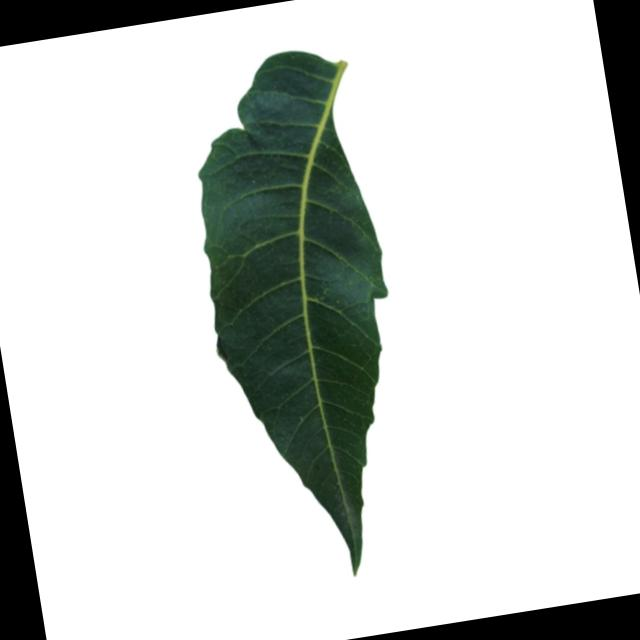Medicinal-Neem: (170, 35, 432, 591)
